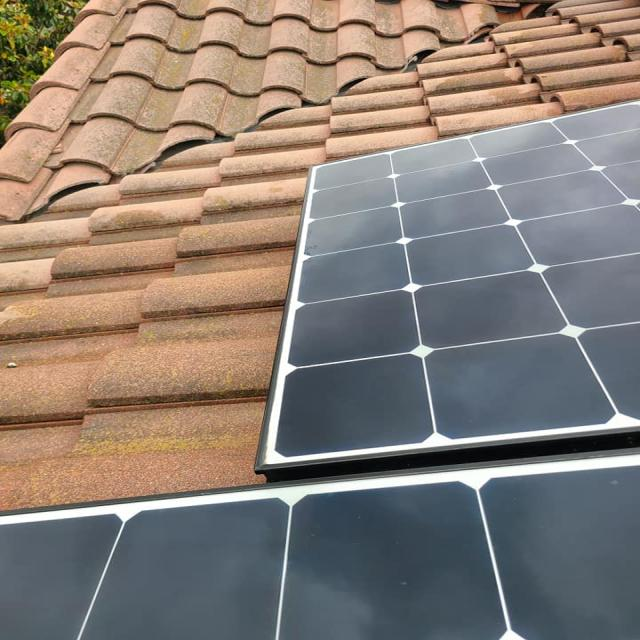clean-solar-panel: (258, 106, 638, 474), (2, 451, 638, 640)
